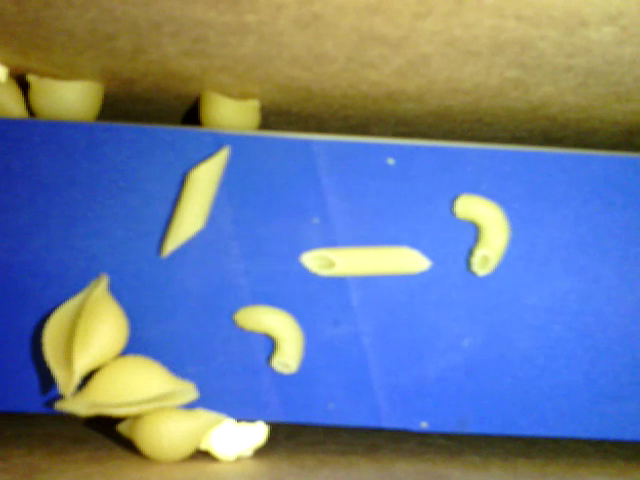elbow: (234, 305, 305, 375), (452, 193, 510, 276)
penne: (160, 145, 230, 257), (298, 244, 433, 276)
shell: (41, 271, 130, 398), (52, 353, 198, 420), (116, 403, 228, 464), (24, 71, 103, 121), (197, 87, 261, 133)
